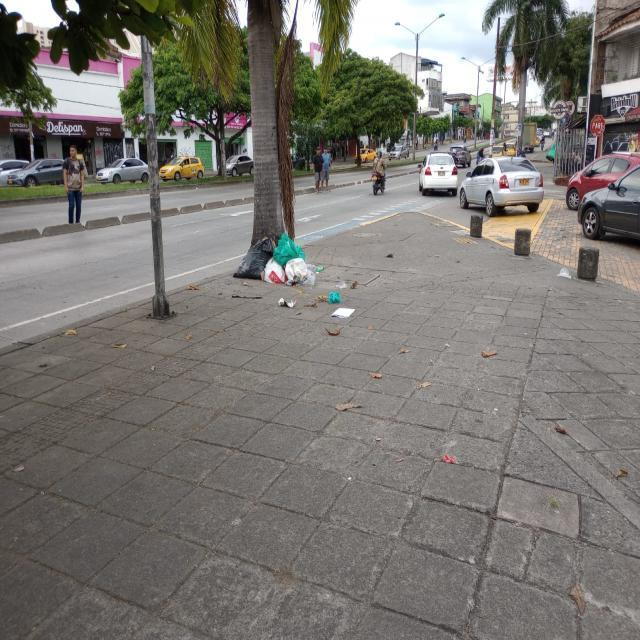Trashbag: (229, 234, 276, 282)
